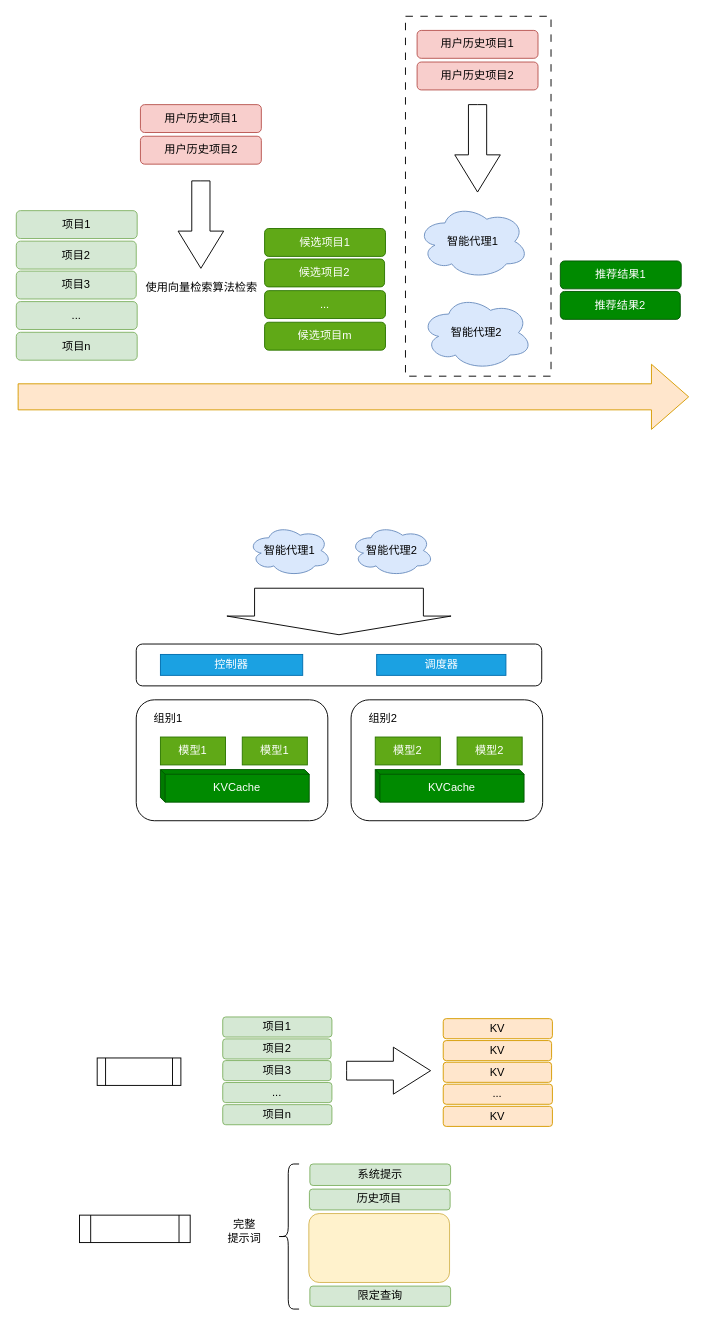
Some shapes in this 705 by 1326 pixel diagram are drawn without their labels. The centre of each missing label's shape, as x and y in pixels:
"候选项目" belongs at [379,1247].
"单独计算KV" belongs at [388,1070].
"在线推理阶段" belongs at [134,1228].
"离线阶段" belongs at [138,1071].
"请求组" belongs at [338,611].
